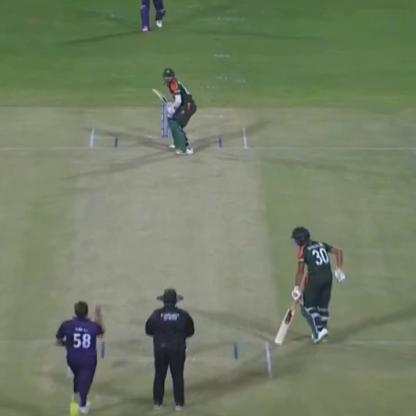bat: (278, 288, 301, 349), (146, 82, 178, 115)
pitch: (51, 116, 289, 394)
